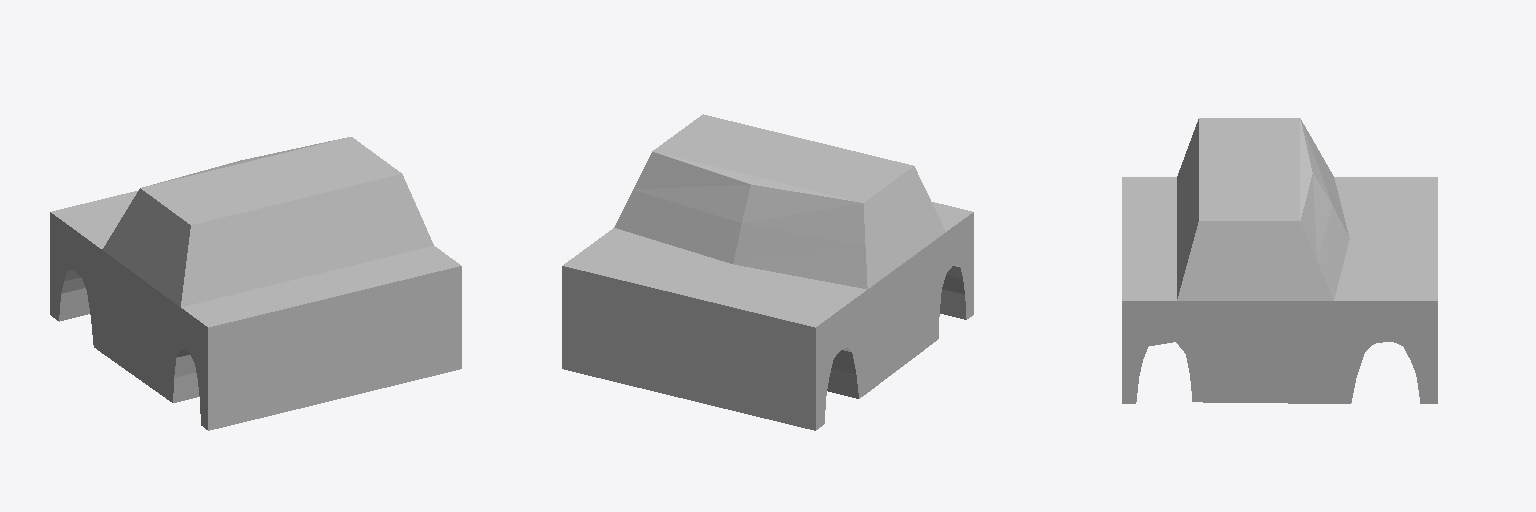
File: car2.obj
3 renders of one model, left to right at view 1: azimuth 30°, elevation 25°; view 2: azimuth 150°, elevation 25°; view 3: azimuth 270°, elevation 25°, orthographic.
Parts seen in each view (by area): view 1: Cube; view 2: Cube; view 3: Cube.
Boxes of the visible parts, box(x1,y1,x2,y2) form: Cube: box(50, 137, 461, 430); Cube: box(562, 114, 973, 430); Cube: box(1122, 118, 1437, 403).
Size of the model in its own units: 5.13 by 3.34 by 5.55.